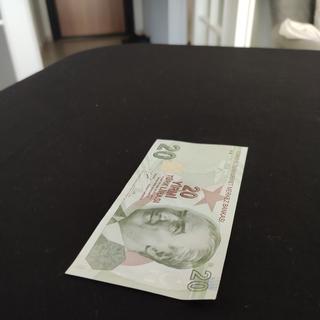20TLFront: (64, 138, 248, 300)
